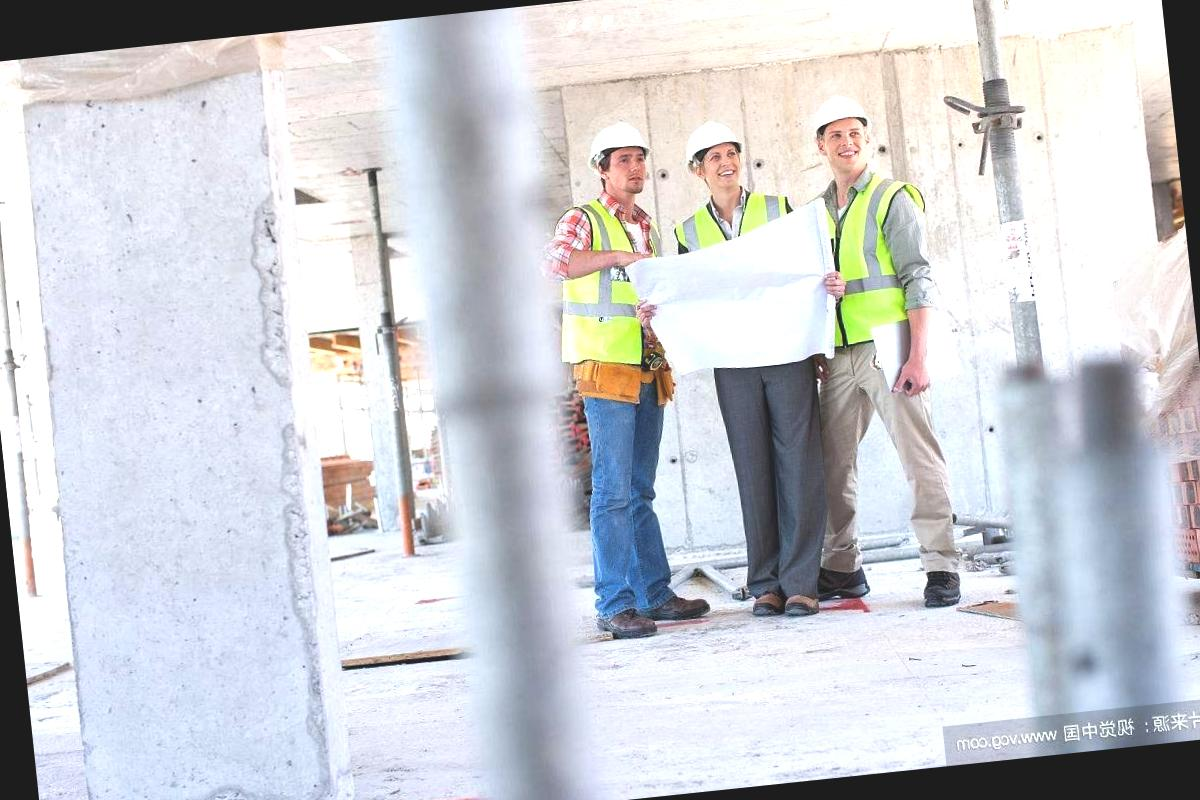helmet: (674, 112, 749, 178), (809, 88, 877, 154), (581, 115, 649, 174)
person: (780, 86, 982, 610), (656, 104, 838, 627), (538, 112, 708, 638)
